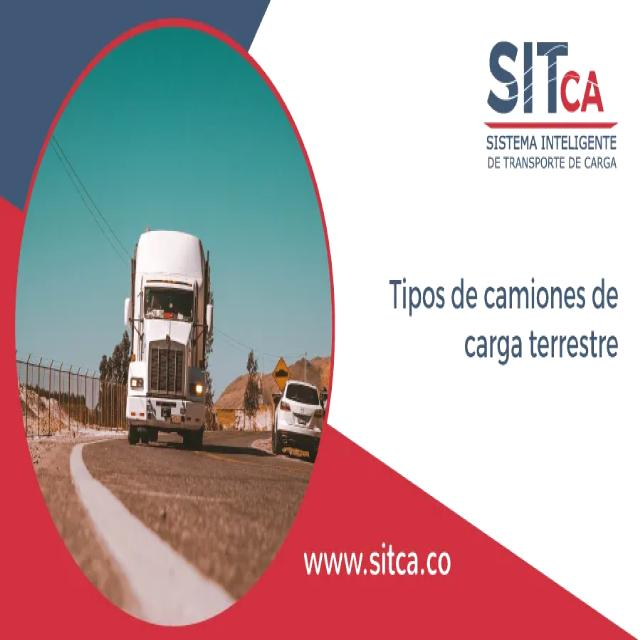SUV: (274, 382, 323, 452)
TRUCK: (124, 229, 213, 449)
